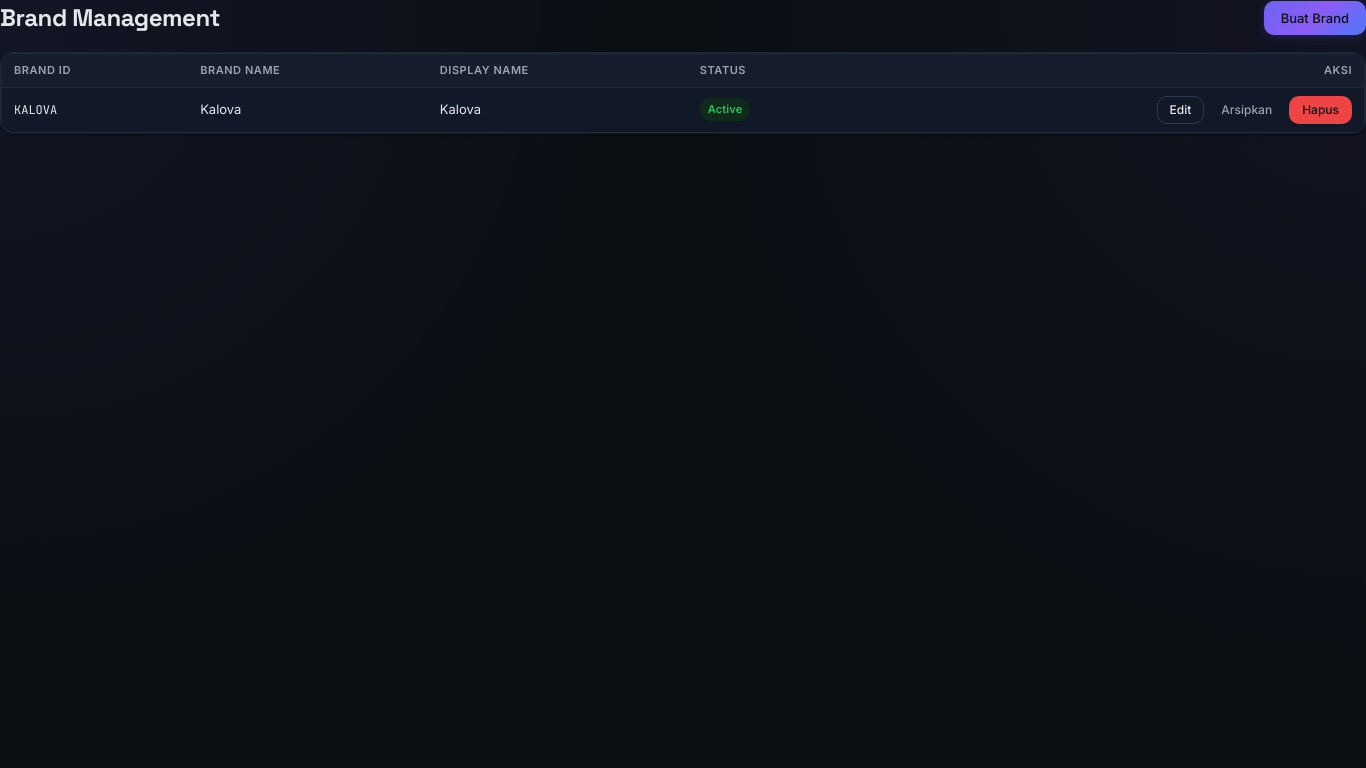
BrandManagementView › archives a Brand without deleting it (Req 19.7)
Click the button with aria-label "Arsipkan Brand Kalova" at (1247, 110), box top-left (1208, 96), bottom-right (1285, 124)
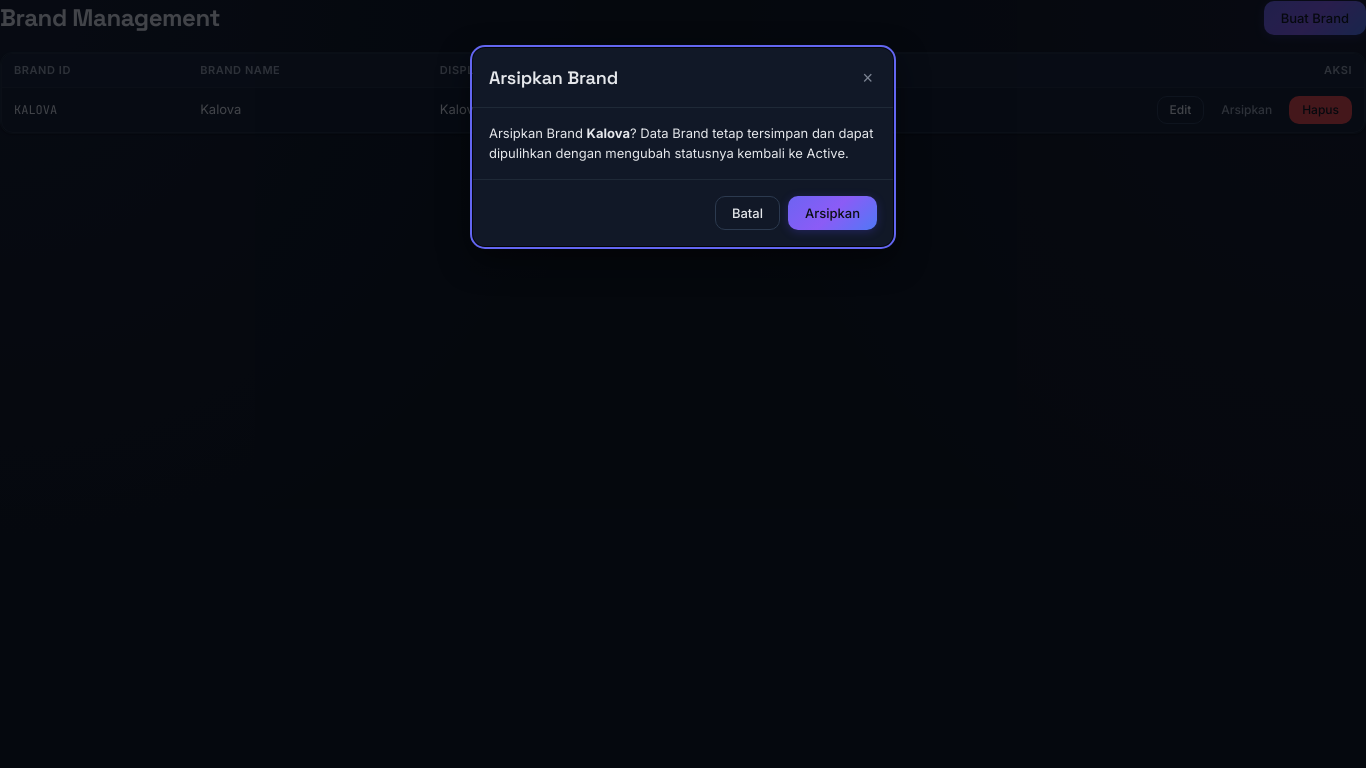
Click the button "Arsipkan" at (832, 213), box top-left (788, 196), bottom-right (877, 230)
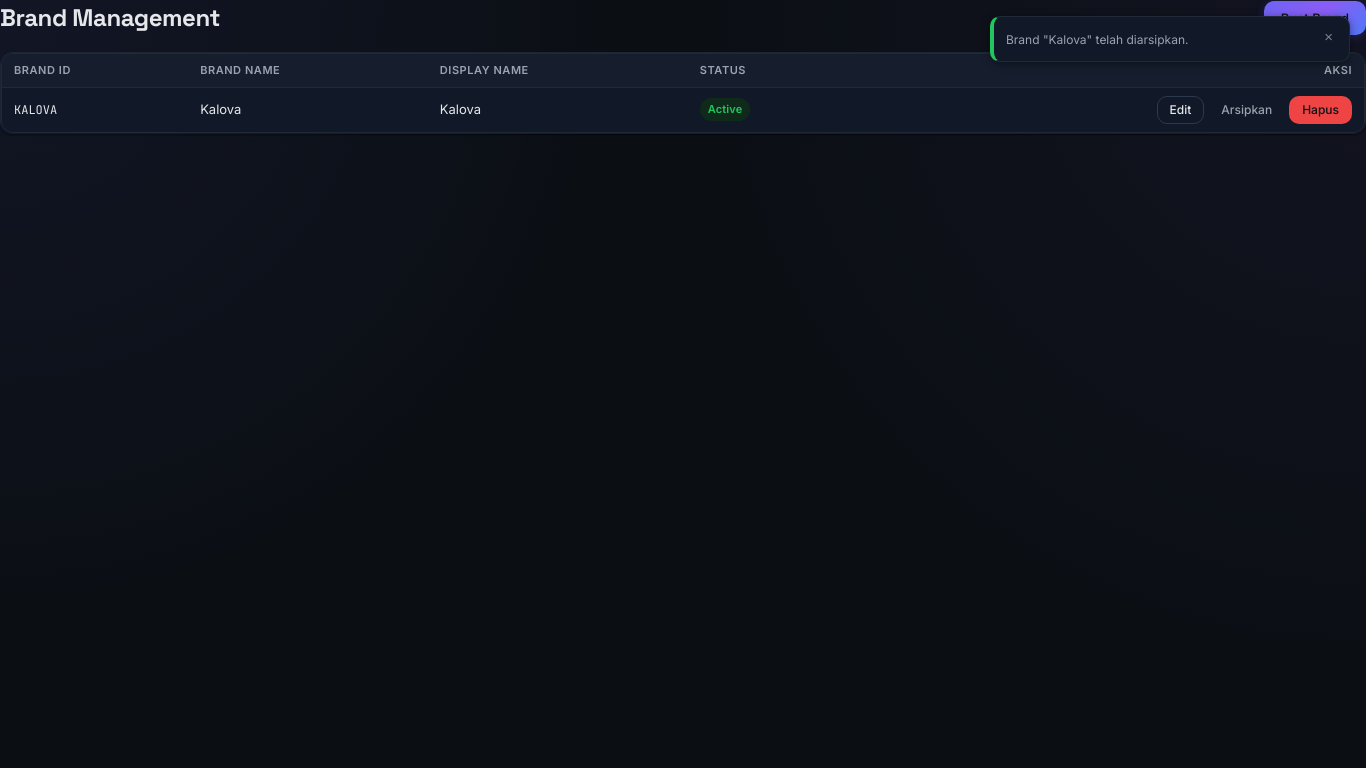
Result: the text "Brand \"Kalova\" telah diarsipkan." is shown at top-left (1006, 32), bottom-right (1188, 47)
